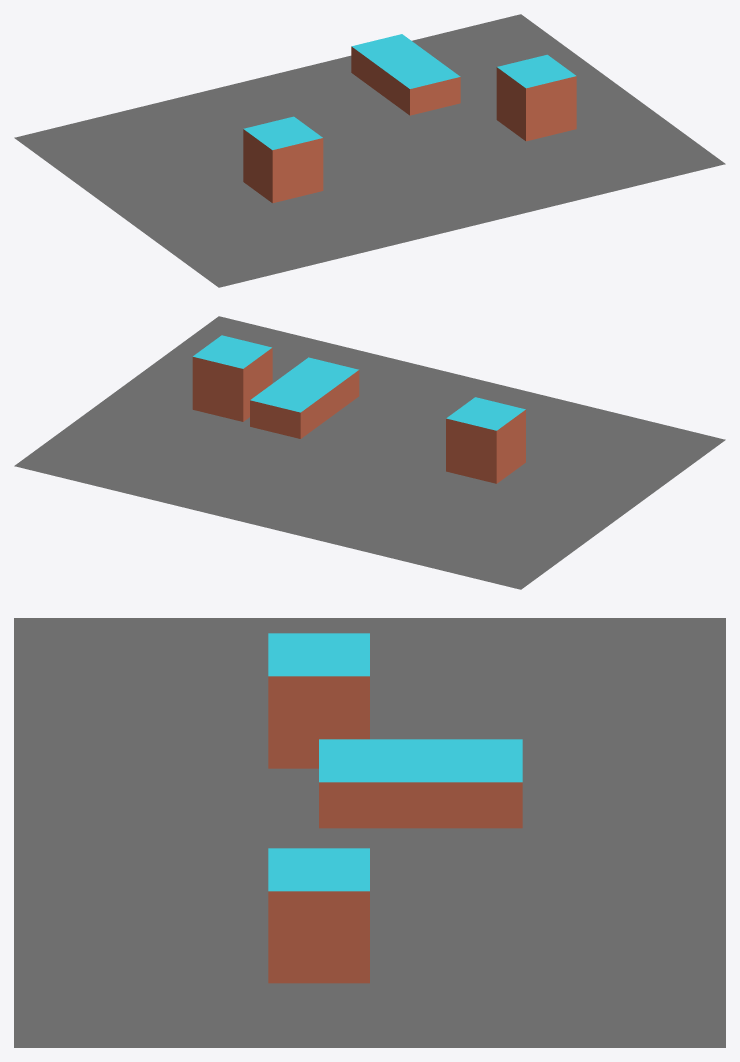
Rendered from reference-r1.glb.
3 views of the same model, one above another, from view 1: azimuth 30°, elevation 25°; view 2: azimuth 150°, elevation 25°; view 3: azimuth 270°, elevation 25° (orthographic). The views are drawn at different scales.
Visible parts, largest first — view 1: Floor, Hero prop, Mirrored prop, Shared prop; view 2: Floor, Hero prop, Shared prop, Mirrored prop; view 3: Floor, Hero prop, Mirrored prop, Shared prop.
Boxes of the visible parts, left/top/right/bottom form: Floor: left=14, top=14, right=725, bottom=287; Hero prop: left=351, top=34, right=460, bottom=115; Mirrored prop: left=496, top=54, right=576, bottom=141; Shared prop: left=243, top=116, right=323, bottom=203; Floor: left=14, top=316, right=725, bottom=589; Hero prop: left=250, top=357, right=359, bottom=438; Shared prop: left=446, top=397, right=525, bottom=483; Mirrored prop: left=192, top=335, right=272, bottom=421; Floor: left=14, top=618, right=725, bottom=1047; Hero prop: left=319, top=739, right=522, bottom=828; Mirrored prop: left=268, top=848, right=369, bottom=983; Shared prop: left=268, top=633, right=369, bottom=768.
Size of the model in its own units: 10 by 1.25 by 7.
